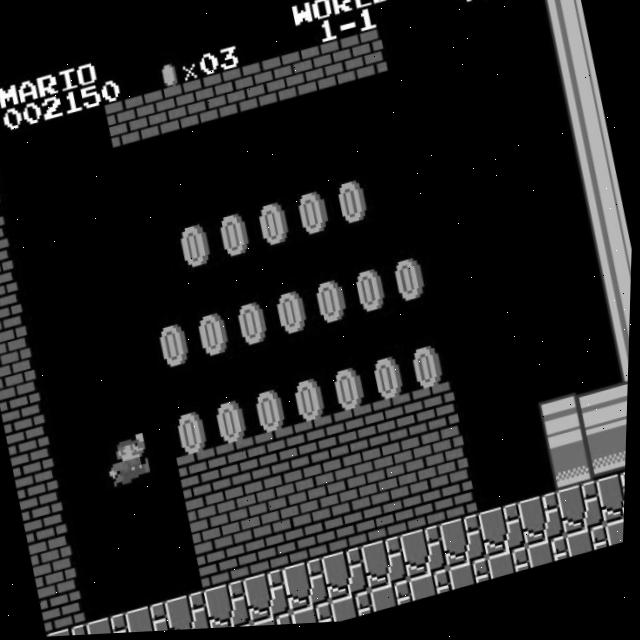1- brick_block: (343, 450, 395, 507), (103, 96, 155, 152), (274, 515, 326, 571), (299, 43, 351, 99), (431, 473, 483, 529), (334, 406, 386, 461), (187, 493, 238, 549), (196, 536, 247, 592), (143, 85, 194, 141), (226, 482, 277, 538), (235, 526, 286, 582), (182, 74, 233, 130), (265, 472, 316, 528), (221, 64, 272, 120), (304, 461, 355, 517), (314, 505, 365, 561), (260, 53, 311, 109), (353, 494, 404, 550), (383, 440, 434, 496), (392, 483, 443, 539), (339, 32, 390, 88), (422, 429, 473, 485), (21, 491, 72, 546), (178, 449, 229, 504), (217, 438, 268, 493), (256, 428, 307, 483), (295, 417, 346, 472), (374, 396, 425, 451), (413, 385, 464, 440), (3, 402, 53, 458), (12, 446, 62, 502), (40, 578, 90, 634), (30, 535, 80, 590), (0, 358, 44, 413), (0, 313, 35, 369), (0, 270, 25, 325), (0, 226, 16, 280), (0, 182, 7, 235)
11- little_mario: (101, 431, 155, 489)
14- pipe: (571, 155, 622, 212), (579, 387, 630, 443), (562, 111, 613, 167), (543, 23, 594, 78), (553, 67, 604, 122), (580, 200, 631, 255), (589, 243, 634, 299), (587, 431, 629, 487), (598, 288, 633, 343), (534, 0, 585, 35), (607, 333, 632, 387), (617, 378, 631, 431)
15- pipe_head: (539, 398, 591, 454), (549, 441, 600, 497)
17- undestructible_block: (479, 507, 531, 563), (440, 517, 491, 574), (245, 570, 296, 626), (284, 560, 335, 616), (323, 549, 374, 605), (362, 539, 413, 595), (401, 528, 452, 584), (519, 496, 570, 552), (558, 486, 609, 542), (205, 581, 256, 631), (166, 592, 217, 633), (597, 476, 628, 531), (127, 602, 178, 634), (372, 582, 418, 616), (411, 572, 457, 606), (450, 561, 496, 595), (568, 529, 614, 563), (529, 540, 574, 574), (332, 593, 378, 626), (489, 551, 535, 584), (88, 613, 139, 636), (293, 604, 339, 627), (50, 622, 99, 637), (254, 614, 299, 629), (607, 520, 627, 553)
2- coin: (207, 394, 259, 450), (267, 284, 319, 340), (403, 341, 455, 397), (385, 252, 436, 309), (170, 218, 222, 273), (327, 175, 379, 230), (150, 316, 201, 372), (168, 404, 219, 460), (189, 305, 240, 361), (228, 295, 279, 351), (247, 383, 298, 439), (286, 372, 337, 428), (307, 274, 358, 330), (325, 362, 376, 418), (346, 263, 397, 319), (364, 351, 415, 407), (210, 207, 261, 262), (249, 197, 300, 252), (288, 186, 339, 241)
